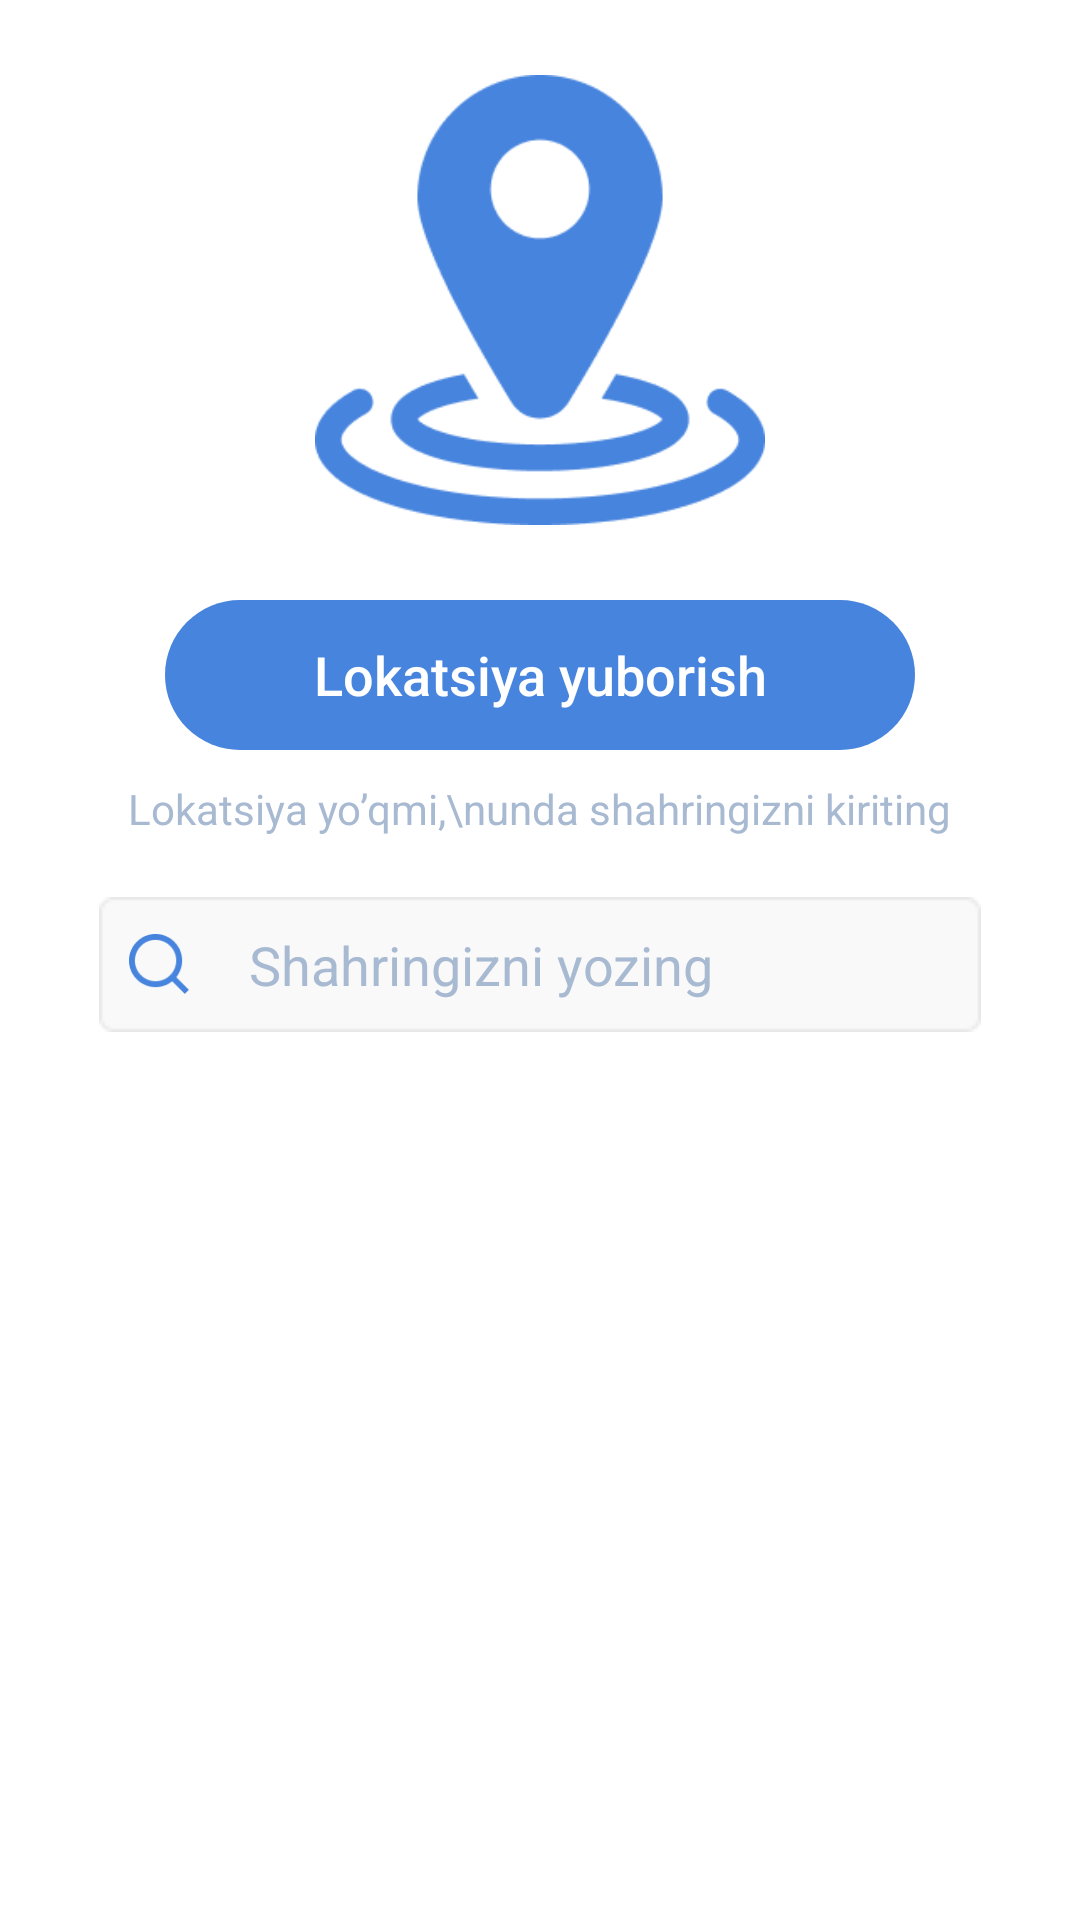

Icons on this 1080*1920 Android screen, each with its box as (left=x1, top=y1, right=x2, bottom=y2):
search: (left=129, top=934, right=189, bottom=994)
